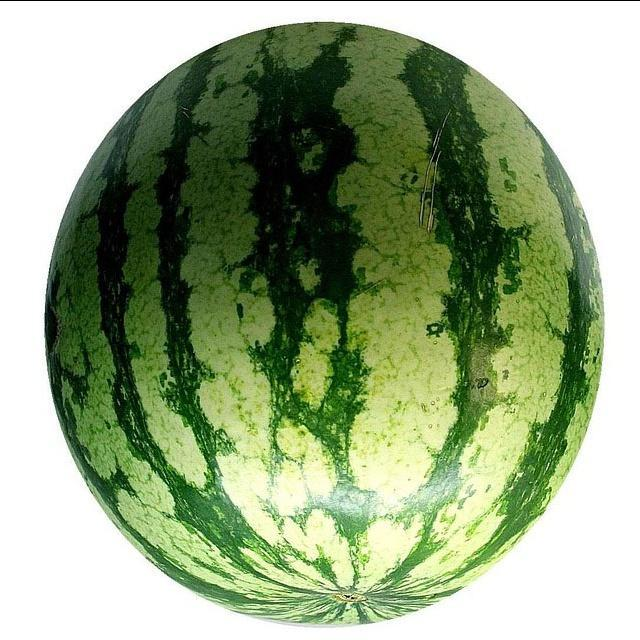watermelon: (51, 25, 600, 632)
